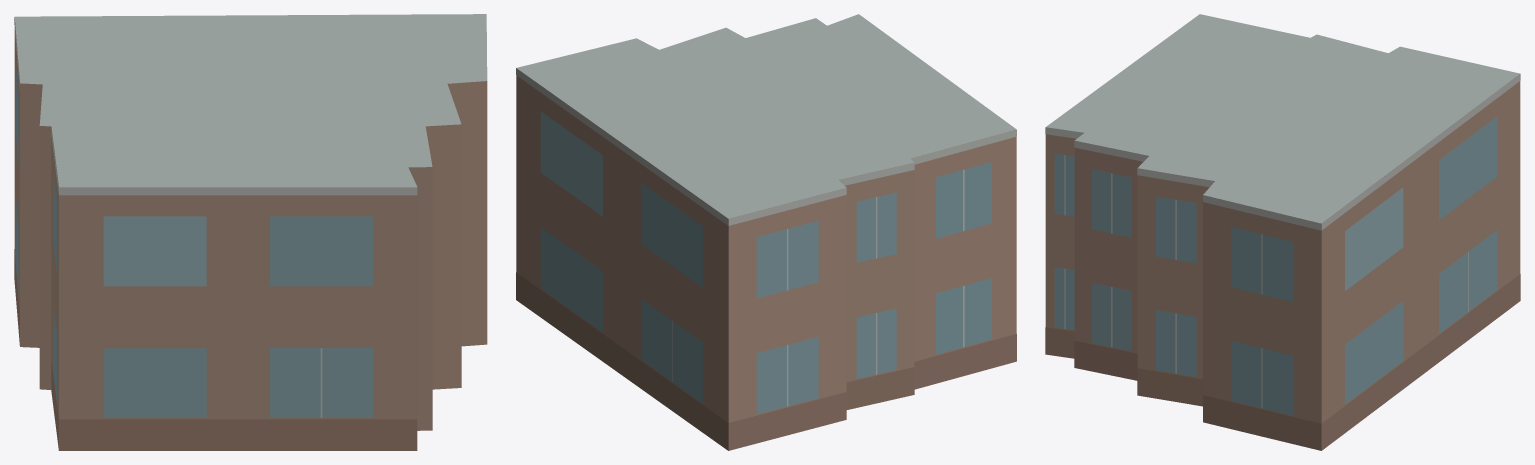
File: survey-upis-32949702.glb
The picture shows the model from 3 angles, left to right: view 1: azimuth 30°, elevation 25°; view 2: azimuth 150°, elevation 25°; view 3: azimuth 270°, elevation 25°; orthographic projection. The views are drawn at different scales.
Visible parts, largest first — view 1: survey-upis-32949702.tmp; view 2: survey-upis-32949702.tmp; view 3: survey-upis-32949702.tmp.
Boxes of the visible parts, x1,y1,x2,y2 form: survey-upis-32949702.tmp: (14,14,487,450); survey-upis-32949702.tmp: (516,14,1016,450); survey-upis-32949702.tmp: (1045,14,1520,450).
Size of the model in its own units: 15.63 by 7.9 by 14.97.
